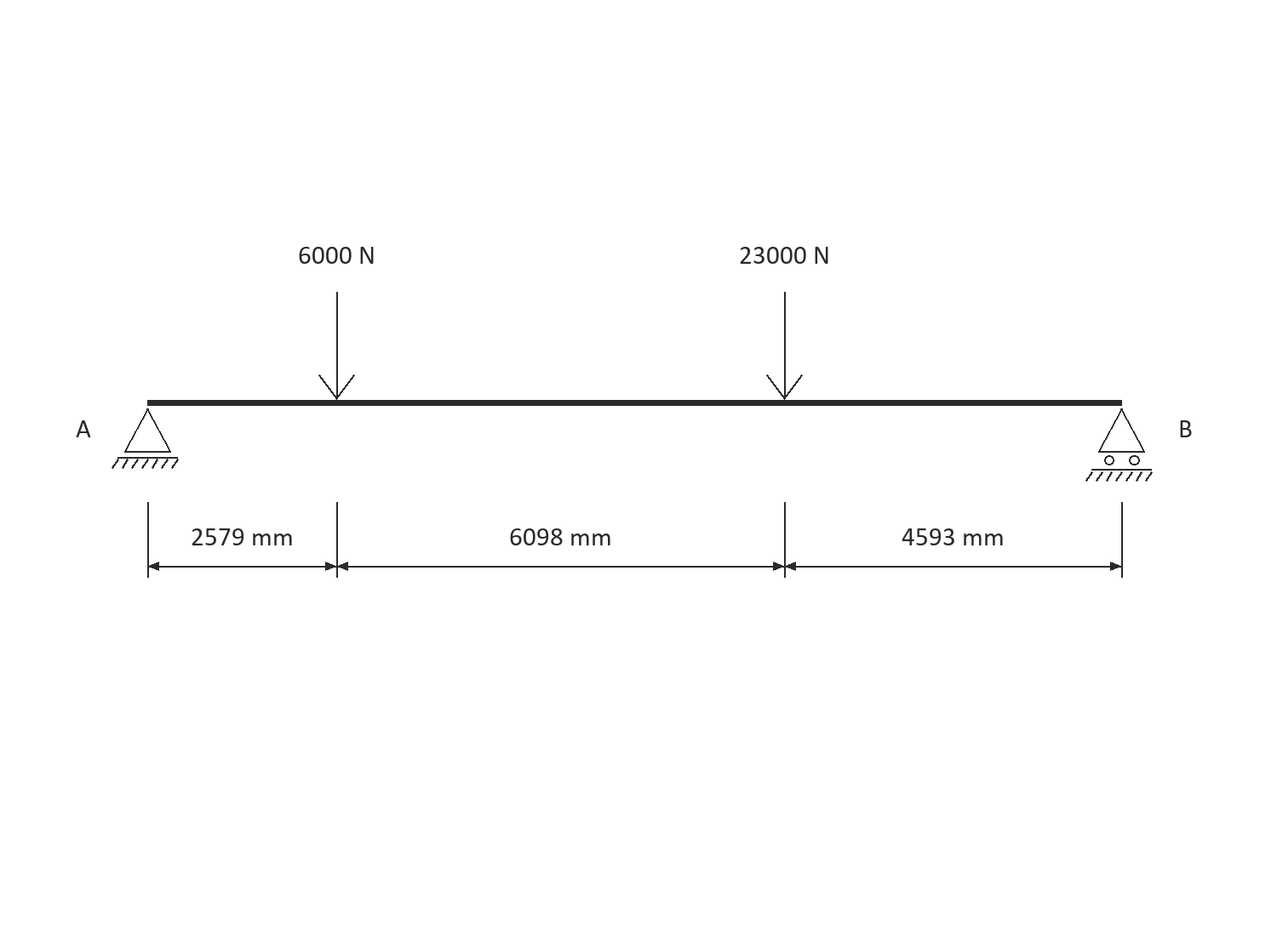pin_support: (112, 408, 179, 469)
point_load: (318, 292, 355, 400), (766, 292, 803, 400)
roller_support: (1085, 408, 1153, 482)
